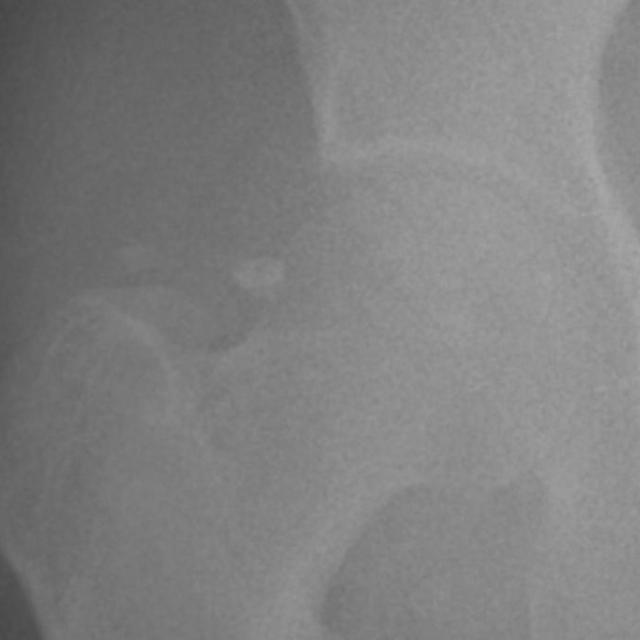Fitted_femural_head: (317, 179, 432, 317)
